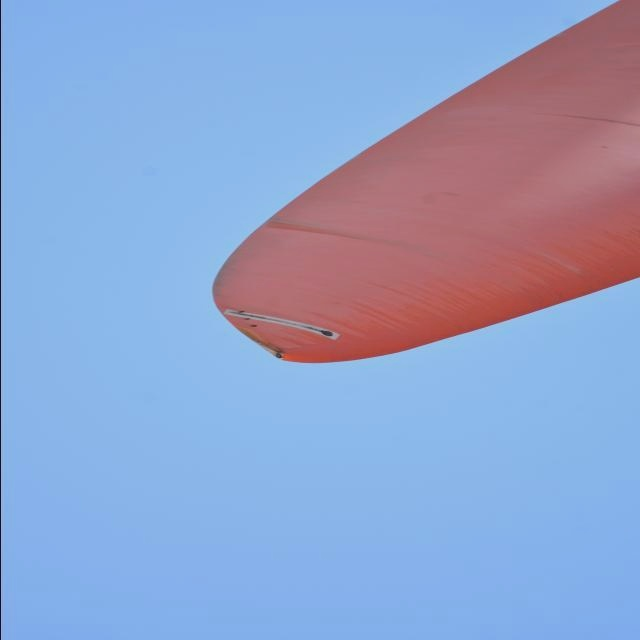Coating_defects: (263, 340, 292, 363)
Crack: (224, 303, 315, 341)
